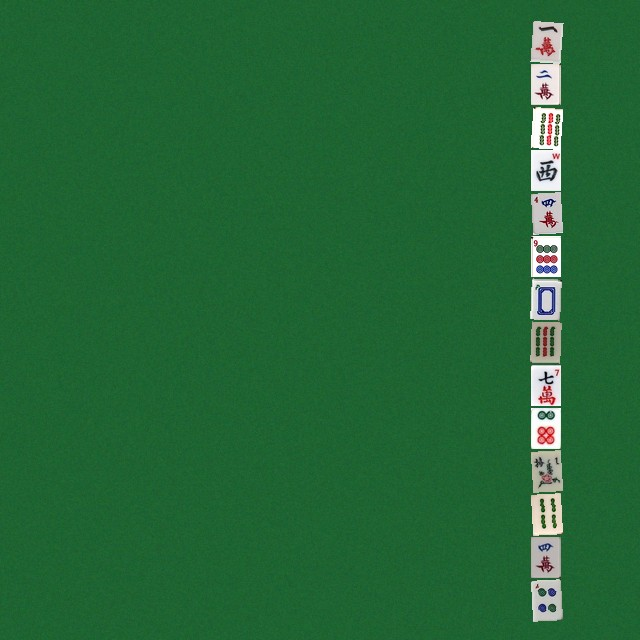tile: (530, 20, 560, 61), (530, 63, 560, 104), (530, 106, 560, 147), (530, 149, 560, 190), (530, 192, 560, 233), (530, 235, 560, 276), (530, 278, 560, 319), (530, 321, 560, 362), (530, 364, 560, 405), (530, 407, 560, 448), (530, 450, 560, 491), (530, 493, 560, 534), (530, 536, 560, 577), (530, 579, 560, 620)
